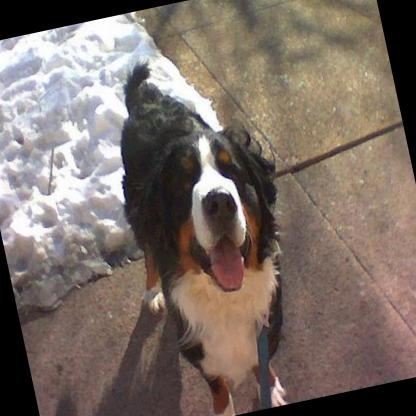Bernese_mountain_dog: (91, 37, 325, 416)
